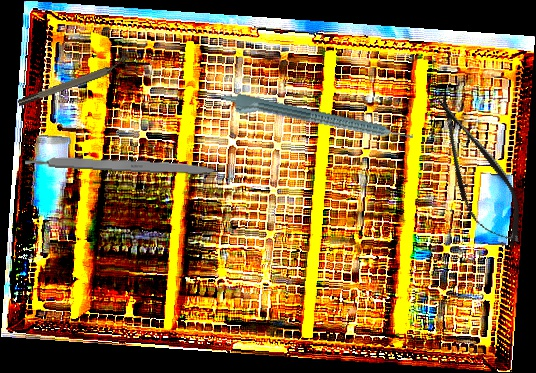Fixation Ring: (15, 54, 133, 109)
Handpiece: (220, 90, 415, 152)
Micro Scissor: (417, 86, 536, 257)
Scalpel Handle: (24, 152, 219, 177)
